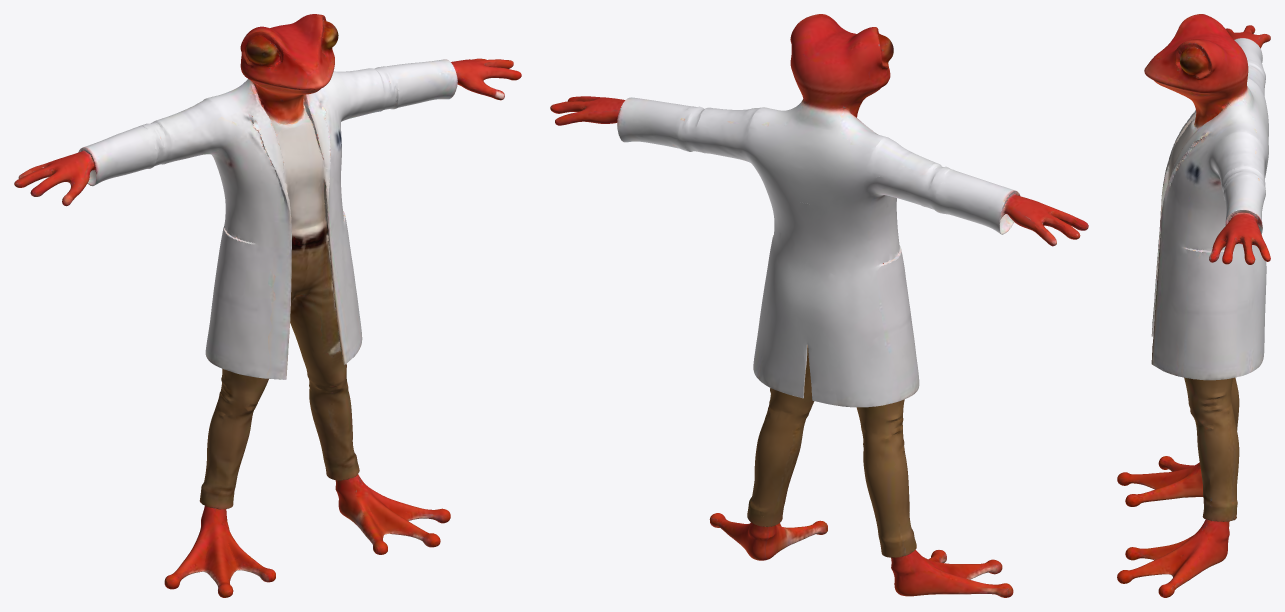
The model's file is player.glb.
3 views of the same model, side by side, from view 1: azimuth 30°, elevation 25°; view 2: azimuth 150°, elevation 25°; view 3: azimuth 270°, elevation 25° (orthographic). The views are drawn at different scales.
Parts seen in each view (by area): view 1: model; view 2: model; view 3: model.
Boxes of the visible parts, x1,y1,x2,y2 form: model: (14, 14, 521, 597); model: (550, 14, 1088, 597); model: (1117, 14, 1270, 597).
Size of the model in its own units: 1.9 by 1.9 by 0.5235.
1 material, 1 textured.
